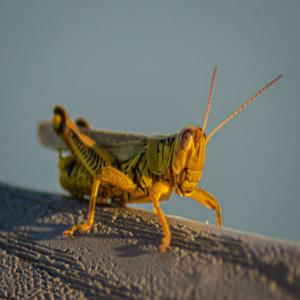locust: (29, 56, 260, 254)
